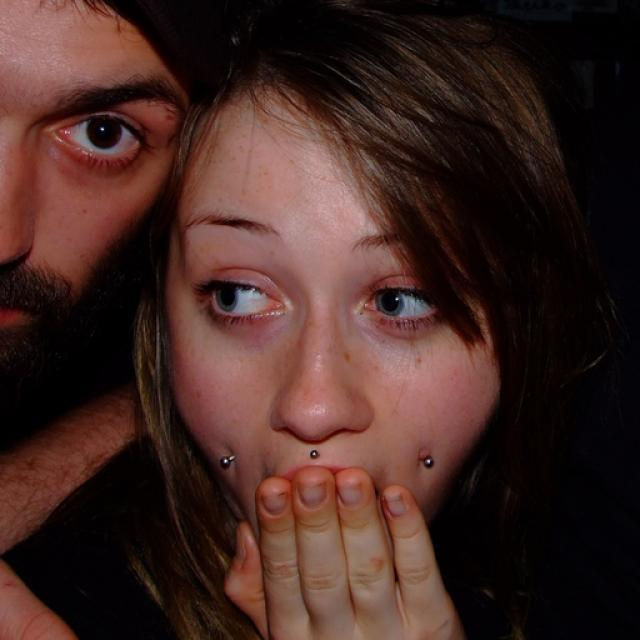neutral: (0, 2, 185, 370)
surprise: (160, 70, 509, 578)
